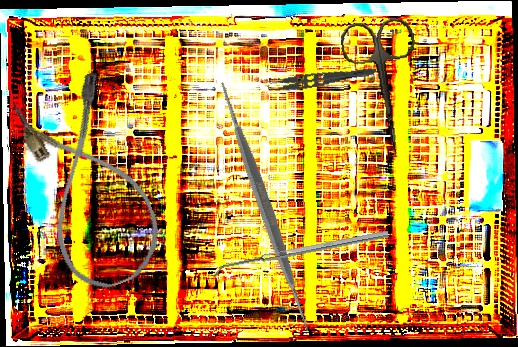Cannula: (7, 69, 173, 299)
Iris Scissors: (338, 15, 431, 163)
Spatula Surgical: (126, 68, 403, 346), (211, 230, 391, 279)
Tissue Forceps: (263, 58, 377, 96)
